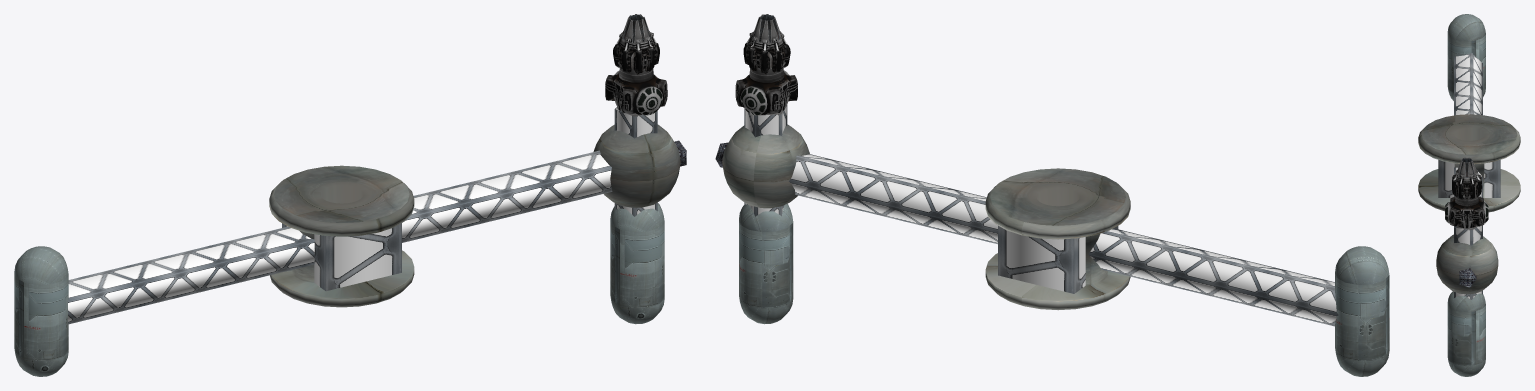
The model's file is BeamEngineLOD.fbx.
The picture shows the model from 3 angles, left to right: view 1: azimuth 30°, elevation 25°; view 2: azimuth 150°, elevation 25°; view 3: azimuth 270°, elevation 25°; orthographic projection. The views are drawn at different scales.
Visible parts, largest first — view 1: BeamThruster_LOD0; view 2: BeamThruster_LOD0; view 3: BeamThruster_LOD0.
Part boxes in pixels (x1,y1,x2,y2): BeamThruster_LOD0: (14, 14, 686, 376); BeamThruster_LOD0: (715, 14, 1389, 376); BeamThruster_LOD0: (1418, 14, 1520, 376).
Size of what is drawn, in the model's own units: 2368 by 1039 by 449.
